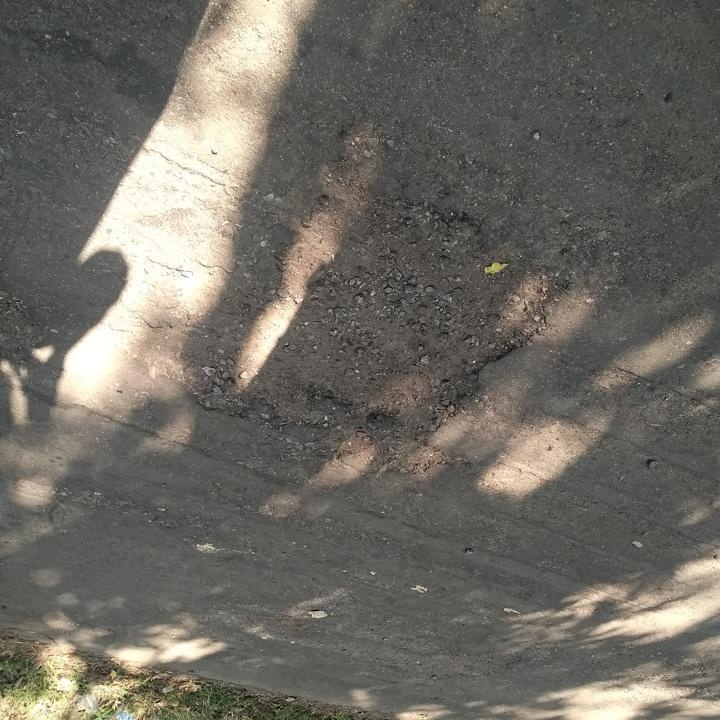pothole: (176, 180, 576, 447)
